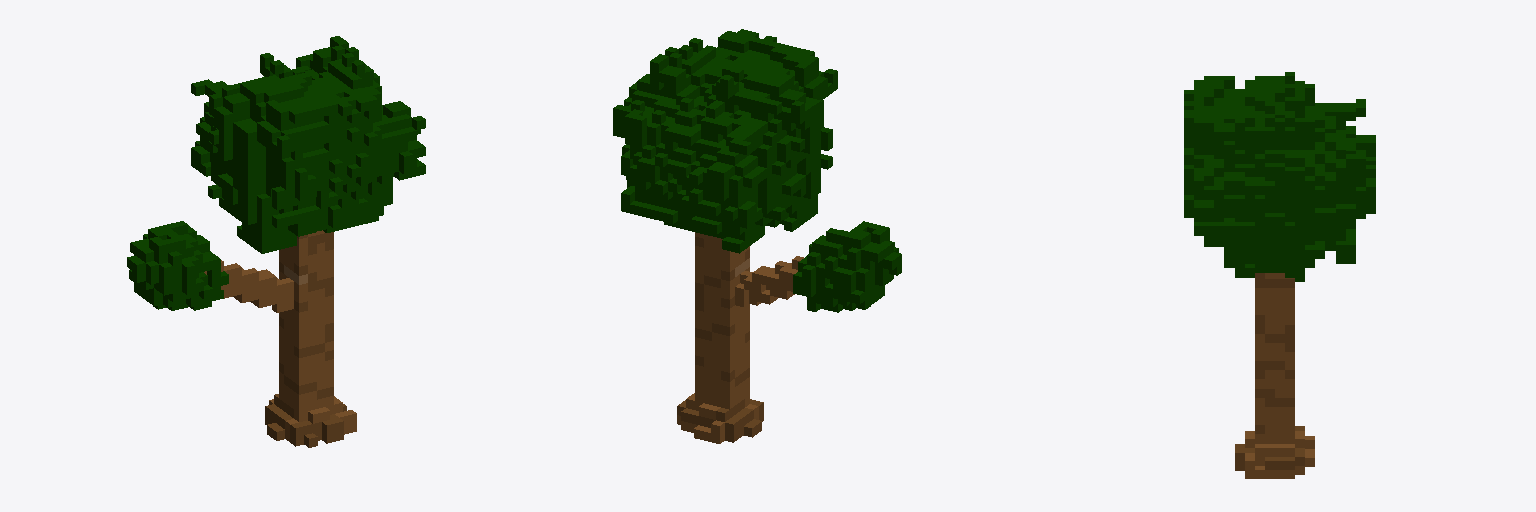
3 renders of one model, left to right at view 1: azimuth 30°, elevation 25°; view 2: azimuth 150°, elevation 25°; view 3: azimuth 270°, elevation 25°, orthographic.
Parts seen in each view (by area): view 1: object 1; view 2: object 1; view 3: object 1.
Part boxes in pixels (x1,y1,x2,y2): object 1: (127, 36, 425, 447); object 1: (613, 29, 901, 443); object 1: (1184, 72, 1375, 478).
Size of the model in its own units: 2.9 by 4 by 1.9.
1 materials, 1 textured.